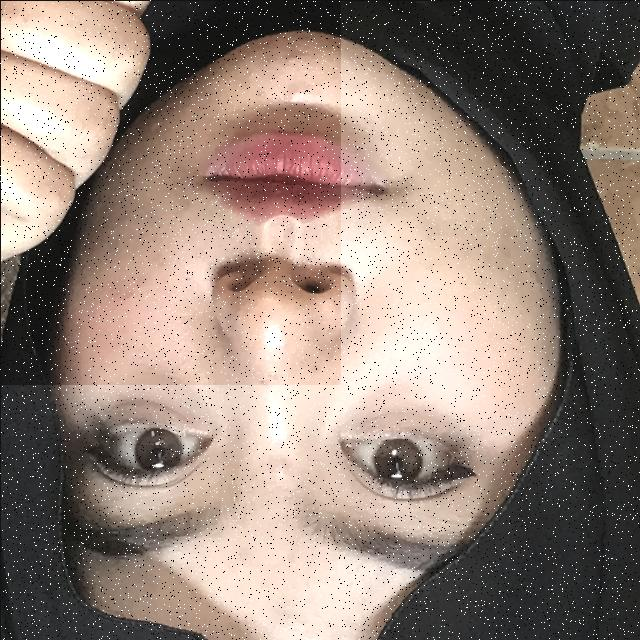sedih: (0, 0, 340, 384)
